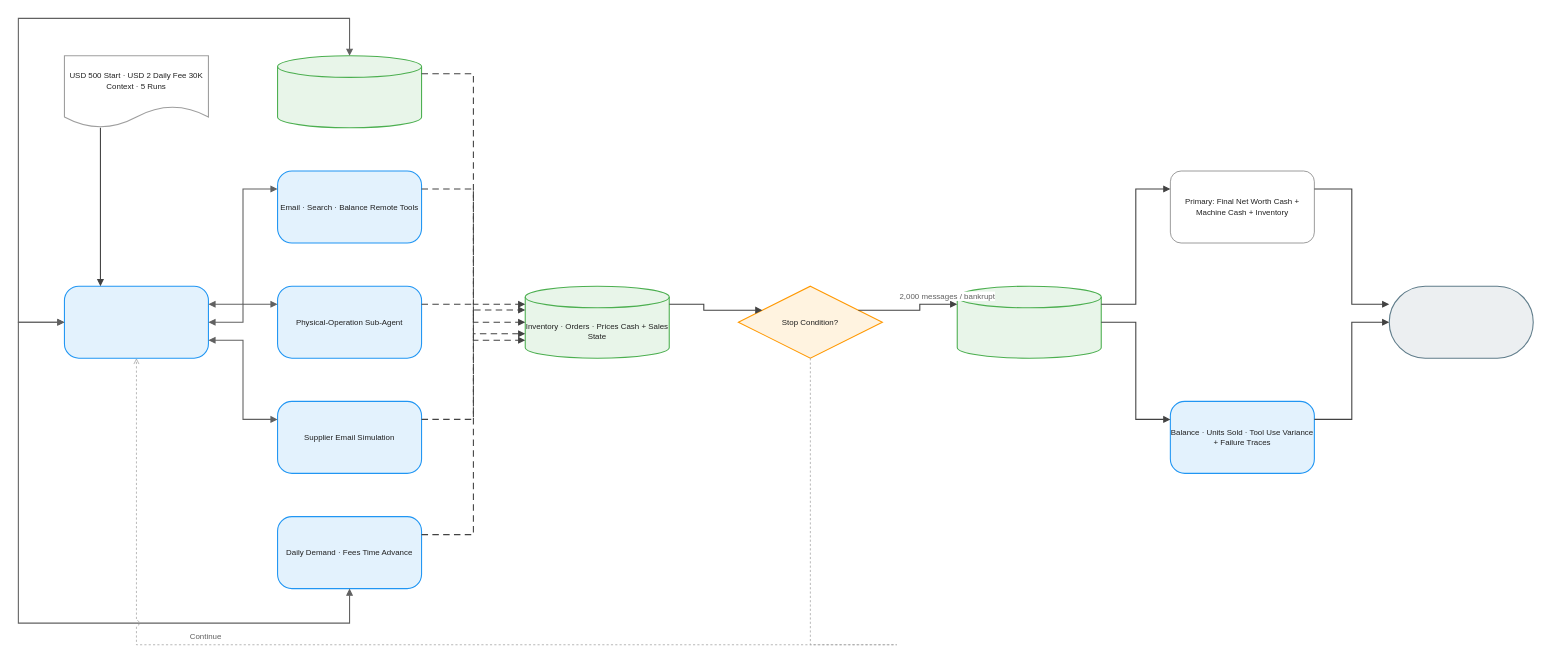
This 1547x664 diagram has some shape labels left out. The centre of each missing label's shape, as x and y in pixels:
Basic LLM Agent Loop: (136,321)
Complete Trajectory Log: (1028,321)
Long-Term Coherence Report: (1460,321)
Scratchpad · KV · Vector Memory Tools: (349,91)
